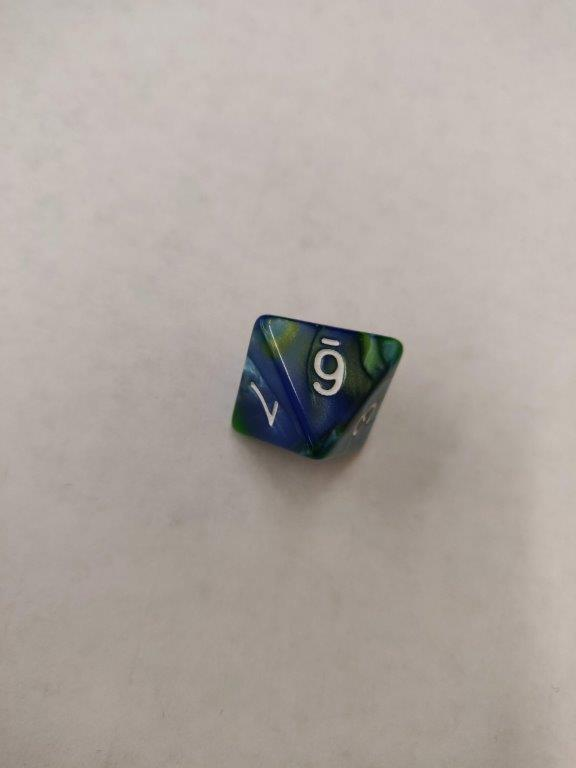d8-6: (230, 312, 402, 460)
